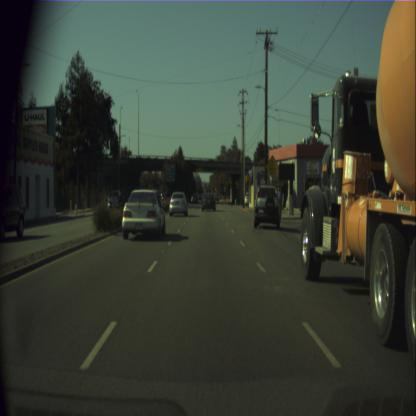Red: (204, 180, 206, 186), (214, 187, 216, 192)
